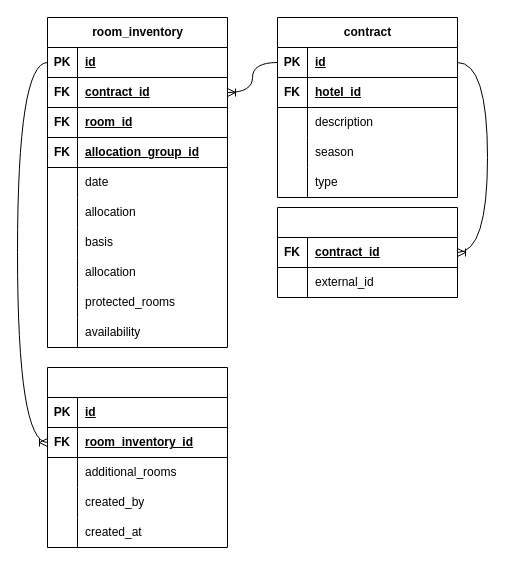
This 505x565 diagram has some shape labels left out. The shapes that lost their labels are listed below. From the top down, each one's box as (x1, y1, x2, y2) in pixels, then its label:
(276, 206, 458, 298): mapping_contract
(46, 366, 228, 548): room_inventory_topup
